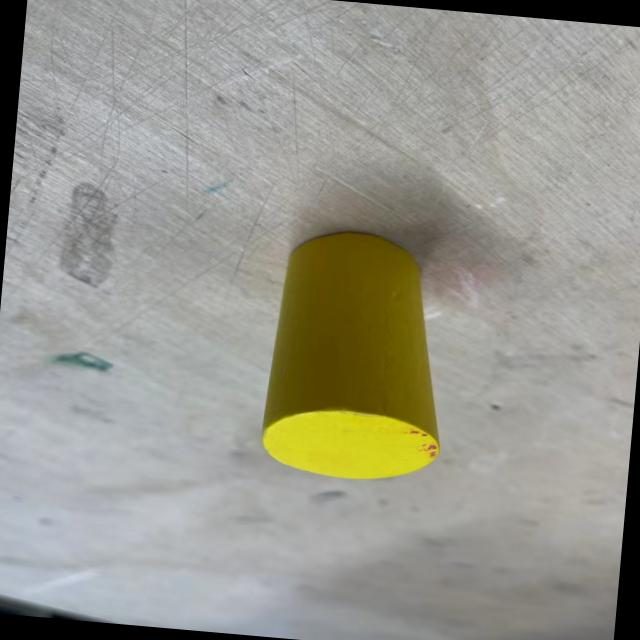yellow_cylinder: (256, 225, 457, 488)
